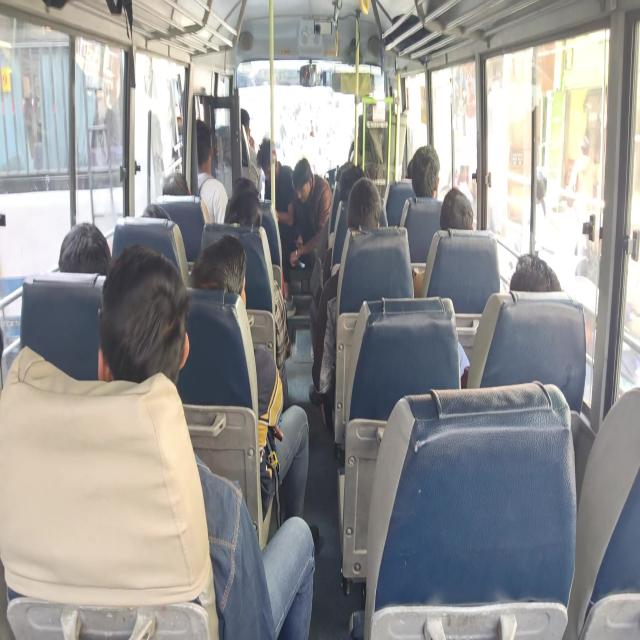person: (97, 242, 316, 639), (187, 233, 314, 542), (308, 178, 382, 428), (458, 252, 561, 387), (412, 187, 474, 297), (256, 137, 294, 299), (289, 157, 332, 268), (194, 119, 228, 224), (58, 221, 111, 275), (566, 135, 598, 211), (508, 252, 560, 292), (240, 108, 263, 197), (407, 144, 440, 199), (439, 187, 474, 231), (224, 190, 262, 228), (240, 108, 256, 166), (162, 172, 190, 195)
